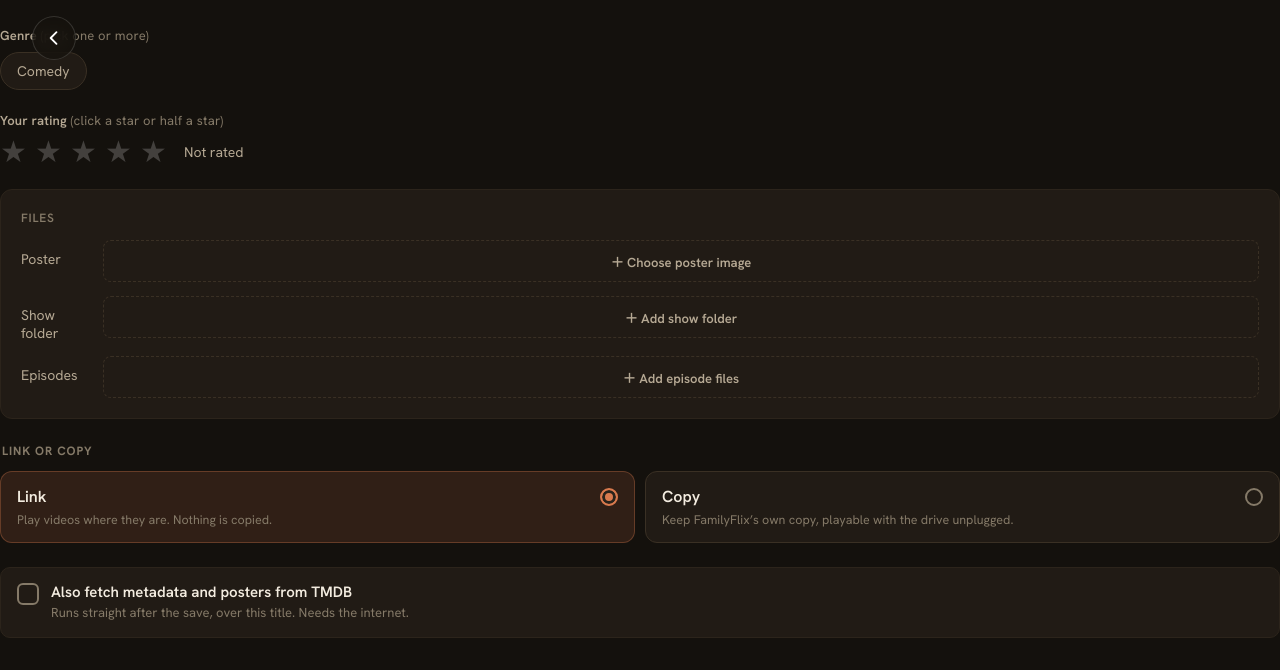
Scenario: MovieForm: picked episodes read apart › the Episode file rows › show a picked Unplaced video’s path inside the show
The width and height of the screenshot is (1280, 670).
(page scrolled)
Click the button "＋ Add show folder" at [681, 317], box [103,296,1259,338]
(page scrolled)
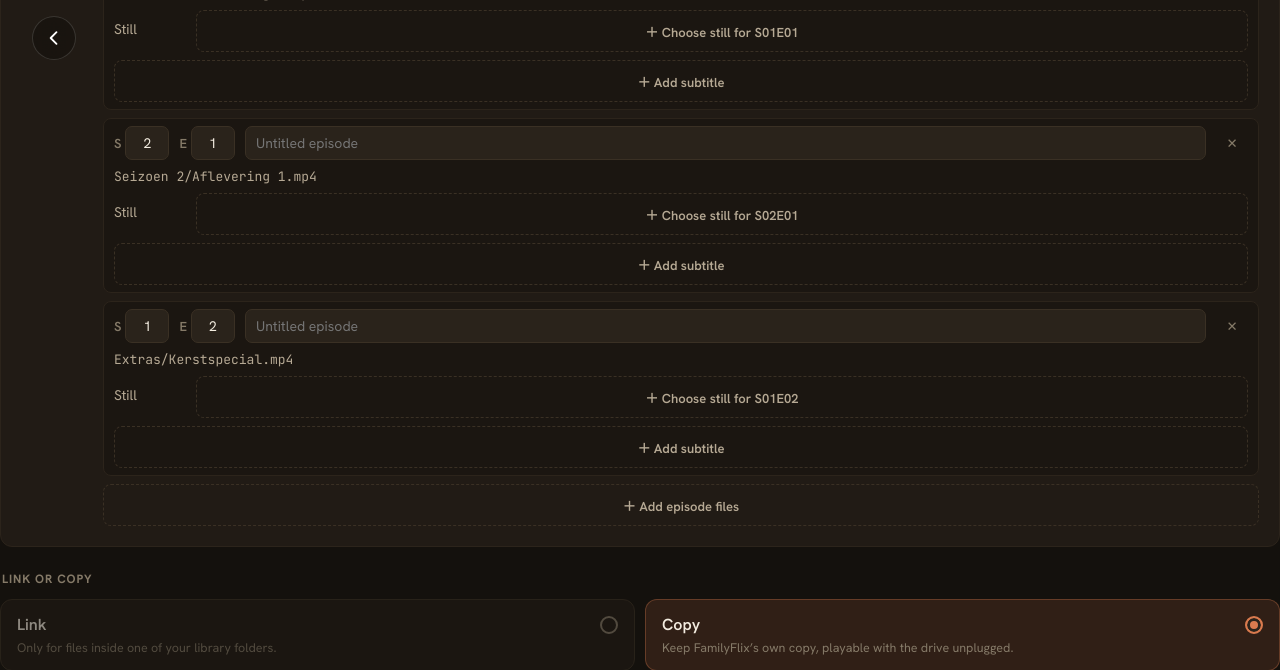
Expected: the text "Extras/Kerstspecial.mp4" is shown, [114,351,293,368]
